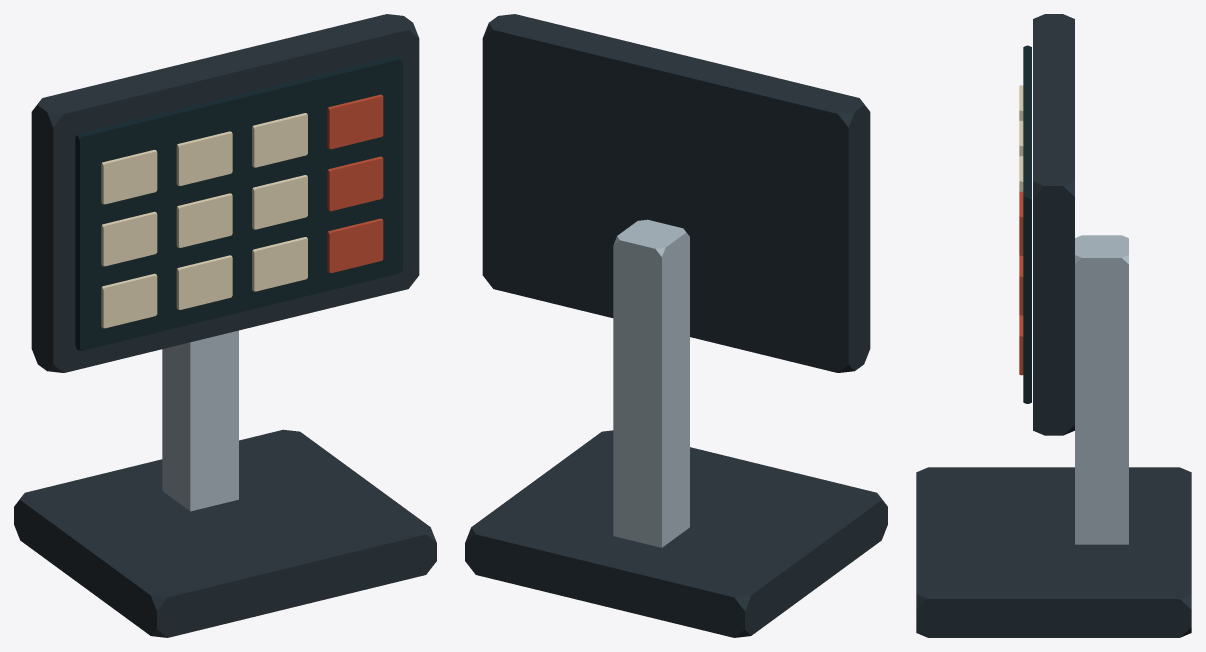
File: POSTerminal.glb
3 renders of one model, left to right at view 1: azimuth 30°, elevation 25°; view 2: azimuth 150°, elevation 25°; view 3: azimuth 270°, elevation 25°, orthographic. The views are drawn at different scales.
Visible parts, largest first — view 1: POSTerminal; view 2: POSTerminal; view 3: POSTerminal.
Boxes of the visible parts, x1,y1,x2,y2 form: POSTerminal: (14, 14, 436, 637); POSTerminal: (465, 14, 887, 637); POSTerminal: (916, 14, 1191, 637).
Bounding box in the file's own units: 0.34 × 0.435 × 0.23.
